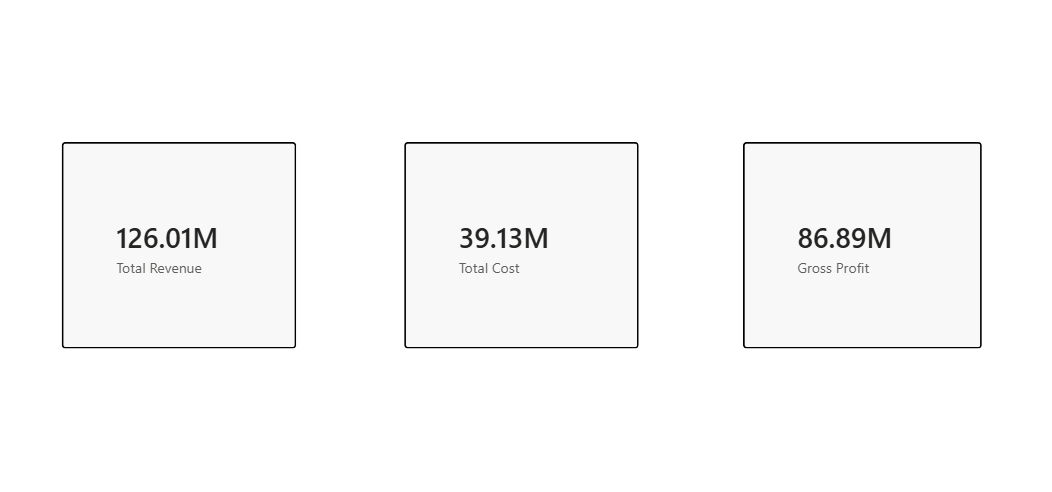

Layout of this report page (visuals, bound fields, positions):
{"tool":"powerbi","page":{"name":"Overall stats","canvas":[1280,720],"ordinal":1},"visuals":[{"type":"cardVisual","fields":{"Data":["FactSales.Total Revenue"]},"box":[85.7,224.3,302.9,270],"z":0},{"type":"cardVisual","fields":{"Data":["FactSales.Total Cost"]},"box":[477.1,224.3,302.9,270],"z":1000},{"type":"cardVisual","fields":{"Data":["FactSales.Gross Profit"]},"box":[864.3,224.3,307.1,270],"z":2000}]}

Visuals, with their boxes on the page's 1280x720 design canvas (x1, y1, x2, y2). These are canvas units, not pixel positions in the 1052x492 screenshot, which may show the page scaled, cropped or inside an application window:
cardVisual - FactSales.Total Revenue: (x1=86, y1=224, x2=389, y2=494)
cardVisual - FactSales.Total Cost: (x1=477, y1=224, x2=780, y2=494)
cardVisual - FactSales.Gross Profit: (x1=864, y1=224, x2=1171, y2=494)
